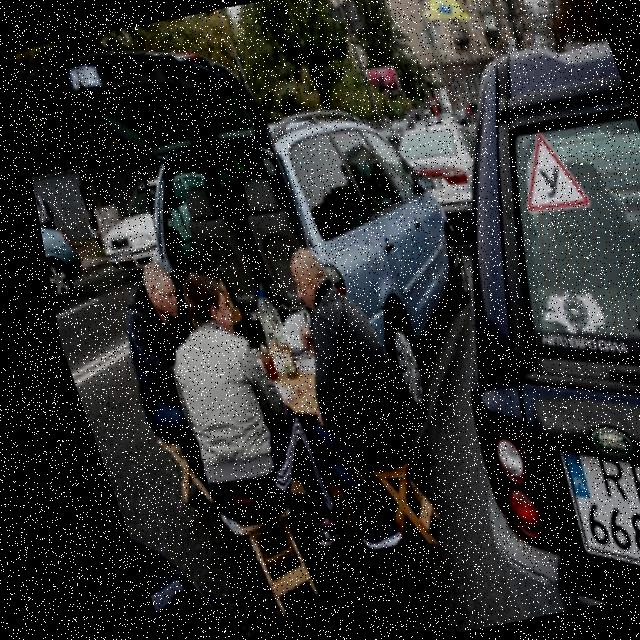license_plate: (534, 424, 640, 596)
